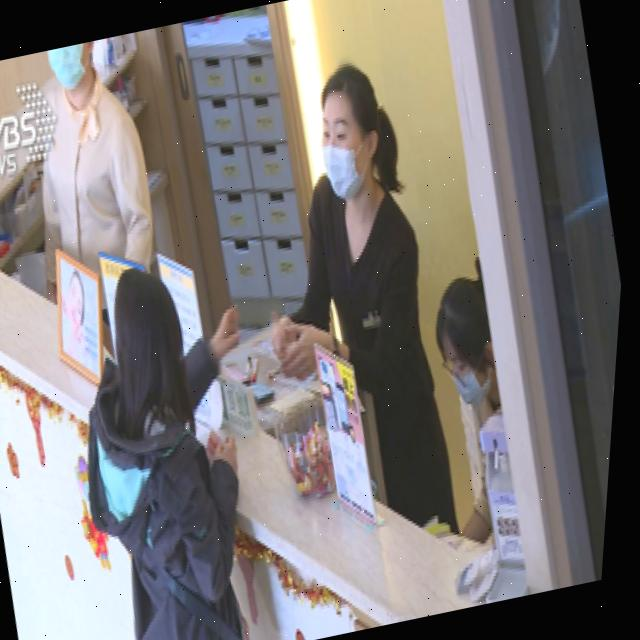Mask: (320, 125, 390, 203), (44, 41, 103, 92), (456, 357, 509, 411)
